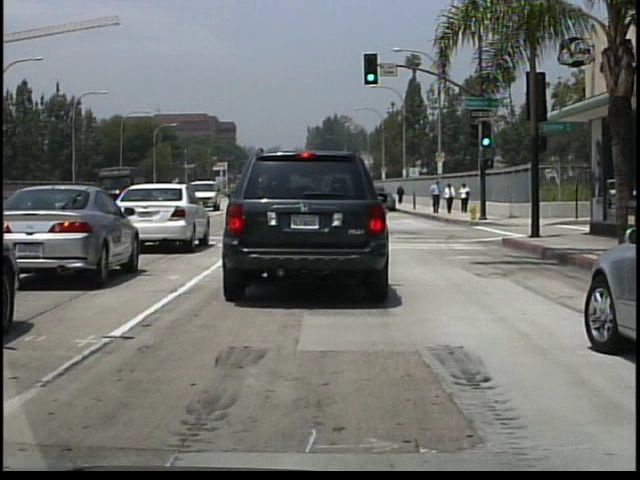person: (433, 179, 446, 216), (445, 182, 458, 216), (460, 182, 473, 215), (397, 184, 406, 206)
